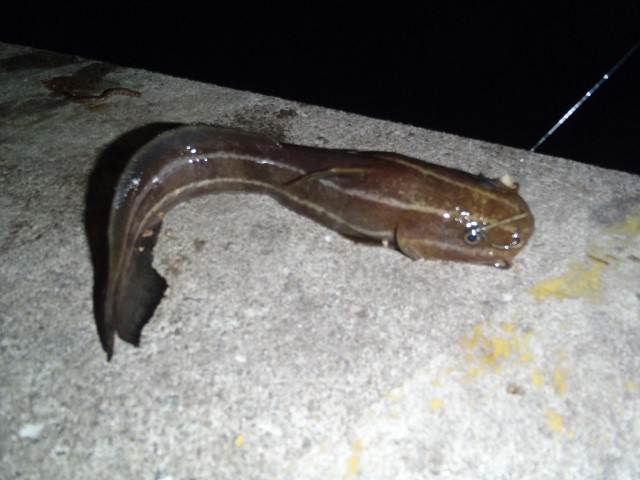gonzui: (64, 120, 551, 370)
